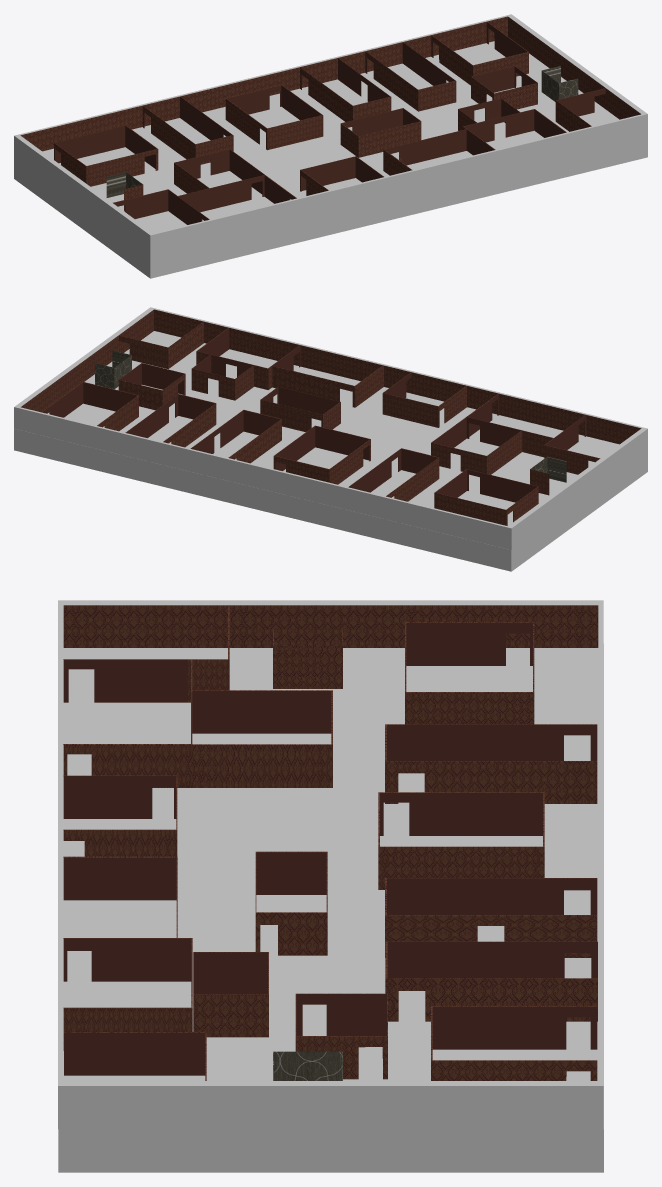
File: updatedsecondlevel.fbx
3 renders of one model, top to bottom at view 1: azimuth 30°, elevation 25°; view 2: azimuth 150°, elevation 25°; view 3: azimuth 270°, elevation 25°, orthographic. The views are drawn at different scales.
Parts seen in each view (by area): view 1: Cube, Cube.001, Cube.028, Cube.030, Cube.039, Cube.037, Cube.002, Cube.038, Cube.031, Cube.024, Cube.026, Cube.006 (+8 smaller); view 2: Cube, Cube.001, Cube.028, Cube.030, Cube.037, Cube.038, Cube.002, Cube.039, Cube.031, Cube.006, Cube.032, Cube.023 (+8 smaller); view 3: Cube, Cube.001, Cube.002, Cube.039, Cube.038, Cube.006, Cube.030, Cube.031, Cube.028, Cube.024, Cube.023, Cube.003 (+8 smaller).
Boxes of the visible parts, <box> form: Cube: <box>14,14,647,256</box>; Cube.001: <box>14,136,647,278</box>; Cube.028: <box>54,125,158,186</box>; Cube.030: <box>225,85,323,150</box>; Cube.039: <box>365,42,456,111</box>; Cube.037: <box>340,108,421,157</box>; Cube.002: <box>142,96,233,164</box>; Cube.038: <box>300,58,391,121</box>; Cube.031: <box>431,21,528,85</box>; Cube.024: <box>462,109,566,155</box>; Cube.026: <box>471,66,537,109</box>; Cube.006: <box>174,149,264,194</box>; Cube: <box>14,307,647,549</box>; Cube.001: <box>14,428,647,571</box>; Cube.028: <box>434,469,538,525</box>; Cube.030: <box>273,425,370,484</box>; Cube.037: <box>260,386,340,432</box>; Cube.038: <box>190,410,281,463</box>; Cube.002: <box>348,448,439,501</box>; Cube.039: <box>125,394,216,447</box>; Cube.031: <box>41,382,138,431</box>; Cube.006: <box>431,417,522,474</box>; Cube.032: <box>272,365,383,407</box>; Cube.023: <box>382,372,466,427</box>; Cube: <box>58,600,603,1129</box>; Cube.001: <box>58,644,603,1172</box>; Cube.002: <box>385,724,597,803</box>; Cube.039: <box>385,941,597,1021</box>; Cube.038: <box>385,878,597,957</box>; Cube.006: <box>192,690,332,787</box>; Cube.030: <box>378,792,544,889</box>; Cube.031: <box>431,1006,597,1080</box>; Cube.028: <box>405,622,534,724</box>; Cube.024: <box>63,938,192,1050</box>; Cube.023: <box>63,775,177,856</box>; Cube.003: <box>193,952,268,1037</box>.
Bounding box in the file's own units: 48.14 × 4.01 × 22.87.
